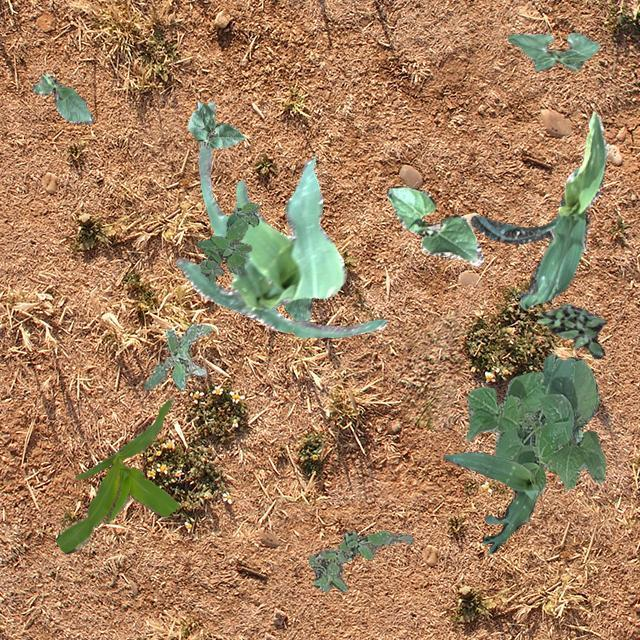crop: (175, 100, 386, 337), (470, 110, 610, 308), (466, 354, 604, 506), (54, 397, 178, 552), (442, 451, 538, 552), (386, 186, 482, 264), (508, 31, 598, 70), (31, 72, 92, 122), (186, 100, 244, 148), (282, 296, 312, 321), (574, 428, 582, 442)
weed: (308, 530, 412, 592), (196, 202, 258, 282), (142, 322, 210, 390), (537, 302, 605, 358)
